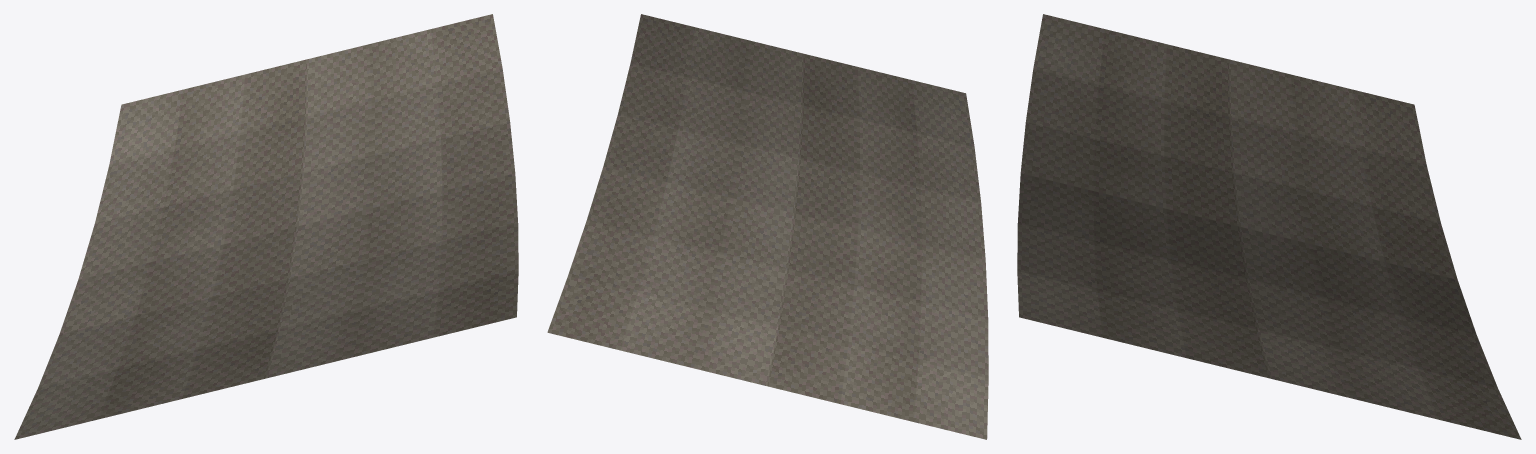
Rendered from trapo.glb.
3 views of the same model, side by side, from view 1: azimuth 30°, elevation 25°; view 2: azimuth 150°, elevation 25°; view 3: azimuth 330°, elevation 25° (orthographic). The views are drawn at different scales.
Visible parts, largest first — view 1: Cloth_Fabric; view 2: Cloth_Fabric; view 3: Cloth_Fabric.
Part boxes in pixels (bbox=[...]): Cloth_Fabric: bbox=[14, 14, 518, 439]; Cloth_Fabric: bbox=[547, 14, 988, 439]; Cloth_Fabric: bbox=[1017, 14, 1521, 439].
Bounding box in the file's own units: 0.9775 × 0.65 × 0.14.
Materials: 1 (1 with a texture image).
